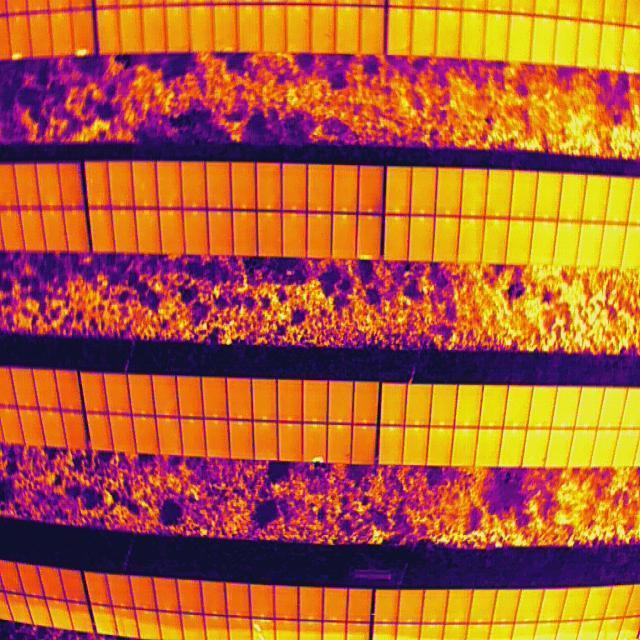hotspot: (252, 619, 273, 640), (358, 248, 378, 262), (310, 450, 326, 462), (12, 50, 24, 60), (75, 48, 89, 56)
